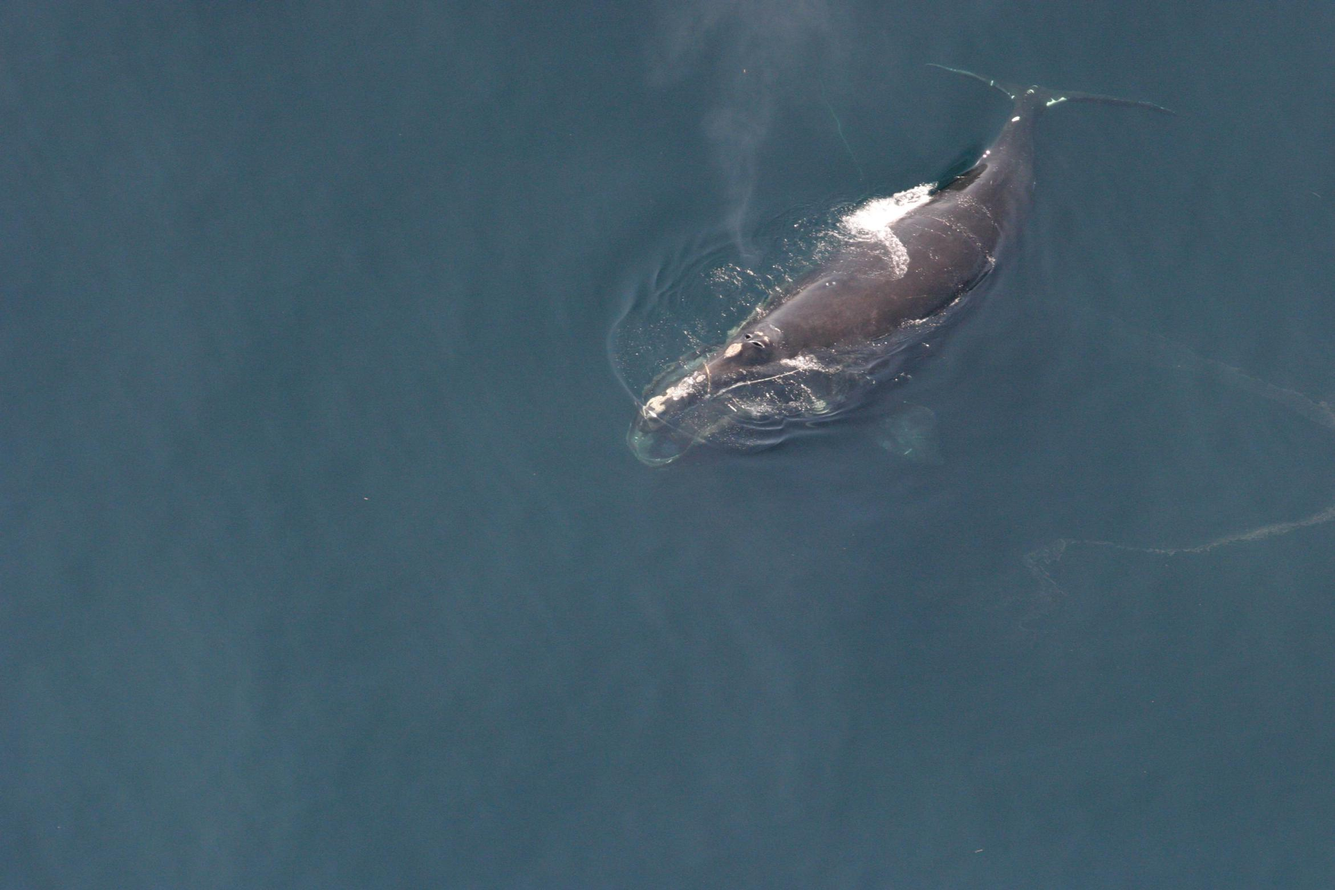whale: (618, 52, 1180, 477)
